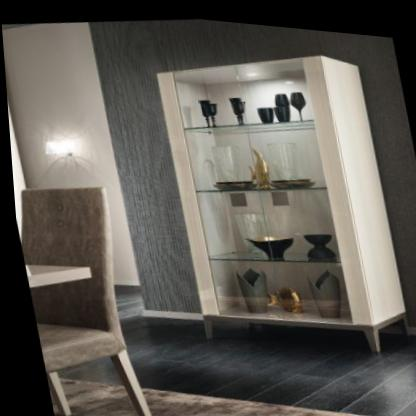Cupboard: (156, 49, 404, 346)
